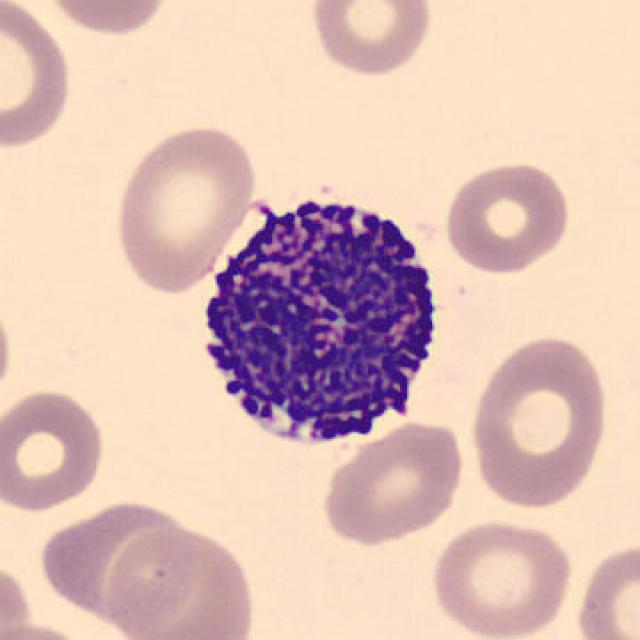Basophil: (181, 175, 455, 469)
RBC: (110, 118, 260, 298), (466, 332, 612, 513), (39, 498, 208, 634), (318, 416, 469, 547), (427, 515, 576, 640), (105, 522, 261, 640), (441, 157, 572, 277), (0, 384, 108, 514), (0, 0, 74, 153), (305, 0, 435, 79), (571, 536, 638, 640), (37, 0, 178, 37), (0, 555, 36, 640), (0, 287, 16, 418), (2, 619, 98, 640)
